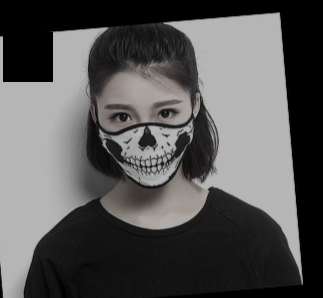with_mask: (97, 98, 197, 188)
